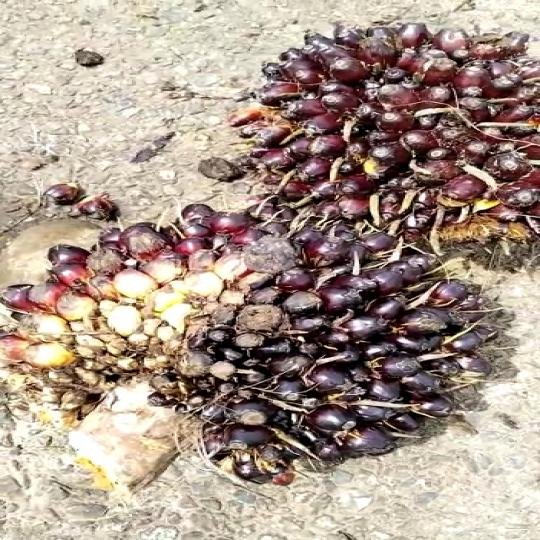mentah: (0, 204, 510, 487), (222, 26, 540, 266)
